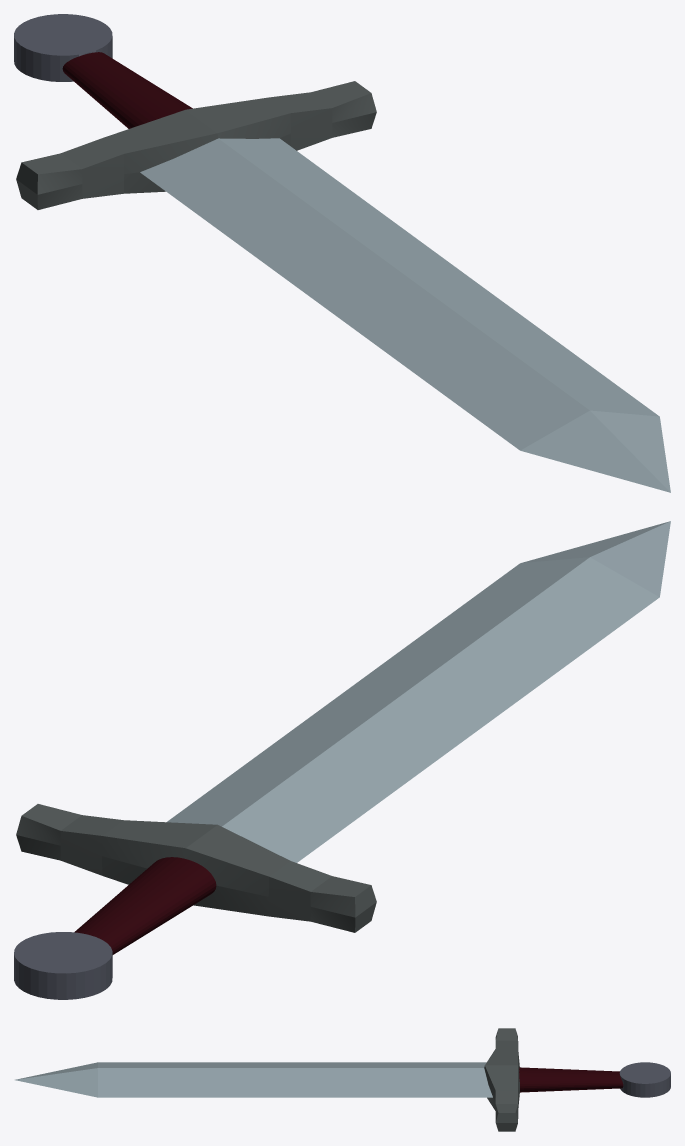
The model's file is sword.dae.
The picture shows the model from 3 angles, top to bottom: view 1: azimuth 30°, elevation 25°; view 2: azimuth 150°, elevation 25°; view 3: azimuth 270°, elevation 25°; orthographic projection. The views are drawn at different scales.
Parts seen in each view (by area): view 1: Cube.001; view 2: Cube.001; view 3: Cube.001.
Boxes of the visible parts, box(x1,y1,x2,y2) form: Cube.001: box(14, 14, 670, 492); Cube.001: box(14, 521, 670, 999); Cube.001: box(15, 1028, 670, 1131).
Size of the model in its own units: 0.11 by 0.3553 by 0.0174.
